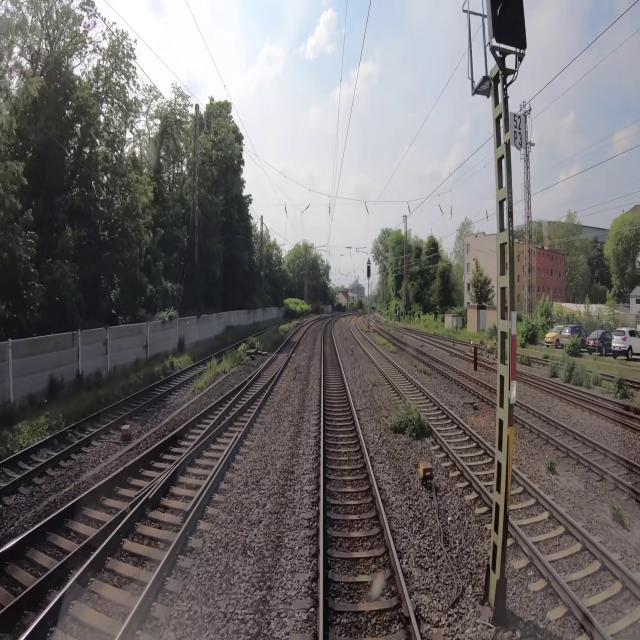Plant: (549, 361, 634, 400), (389, 402, 432, 439), (612, 502, 629, 529), (374, 334, 396, 353), (545, 455, 558, 476), (414, 361, 431, 375), (517, 353, 531, 367)
